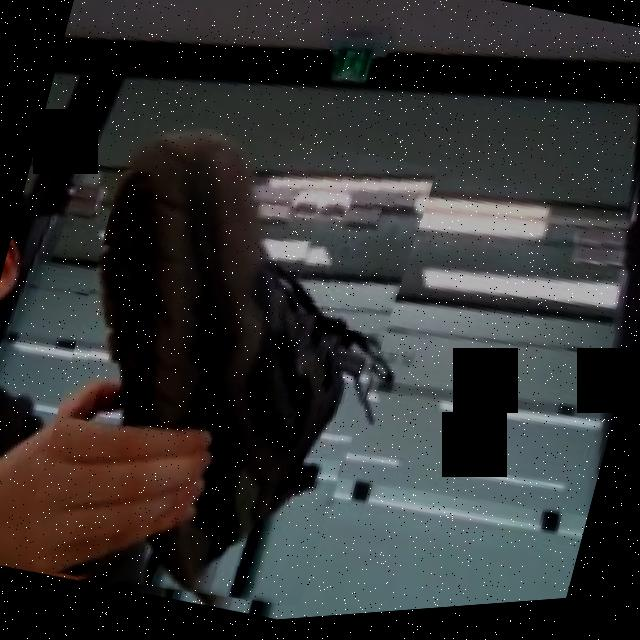shoe: (16, 93, 438, 639)
